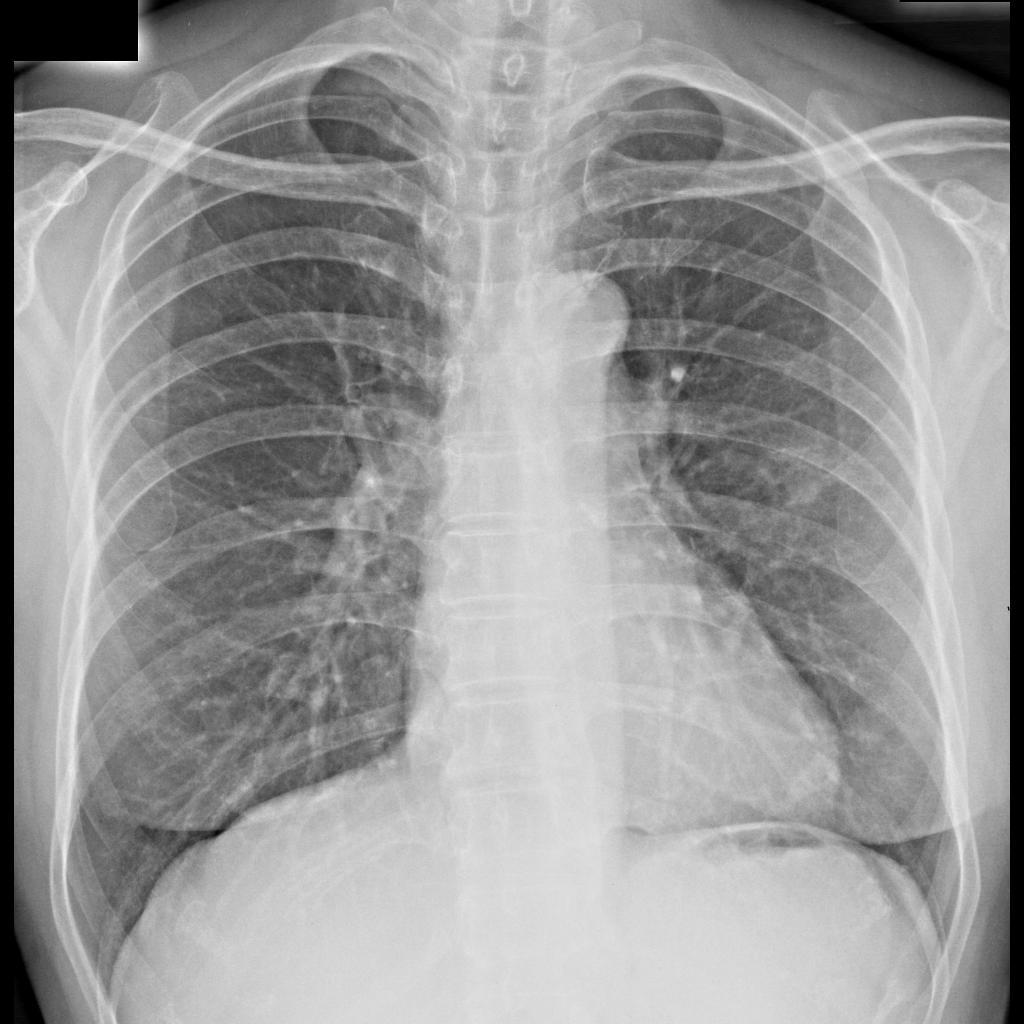Nodule: (761, 436, 836, 510)
